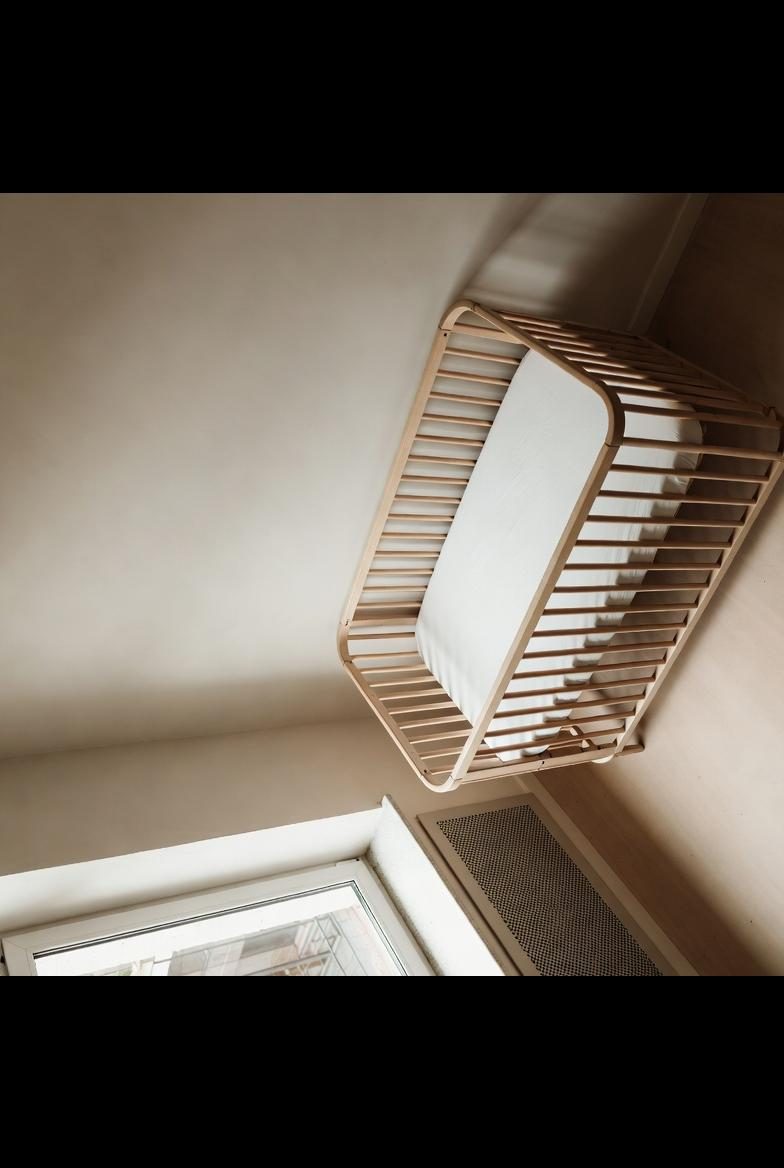crib: (338, 300, 784, 790)
